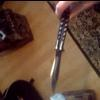melee: (49, 0, 98, 93)
